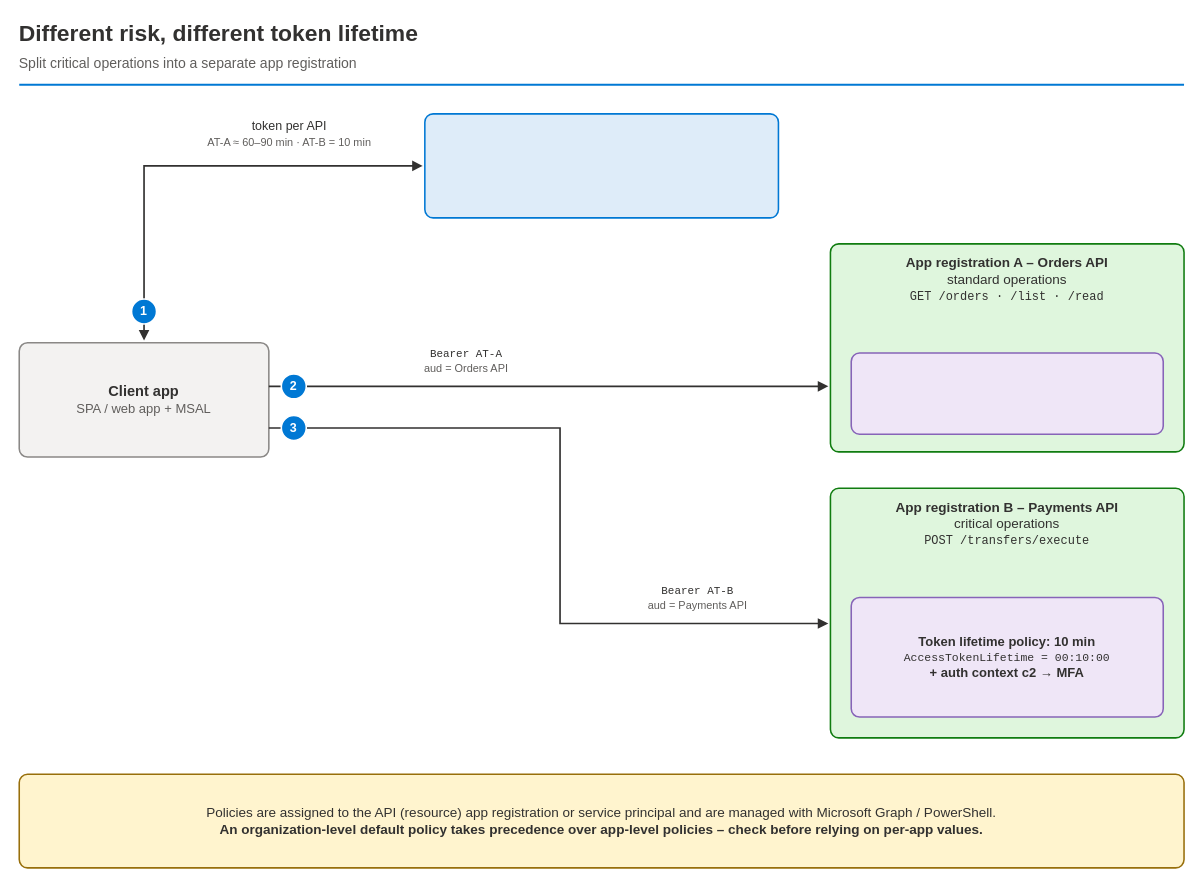
Image size: 1203x886. Some labels were removed from this diagram. The shapes that lost their labels are listed below. From the top down, each one's centre as x and y in pixels, then its label:
At (601,165): "Microsoft Entra ID one access token per API (aud)".
At (1007,393): "Token lifetime: default (60–90 min) or a policy, e.g. 60 min".
